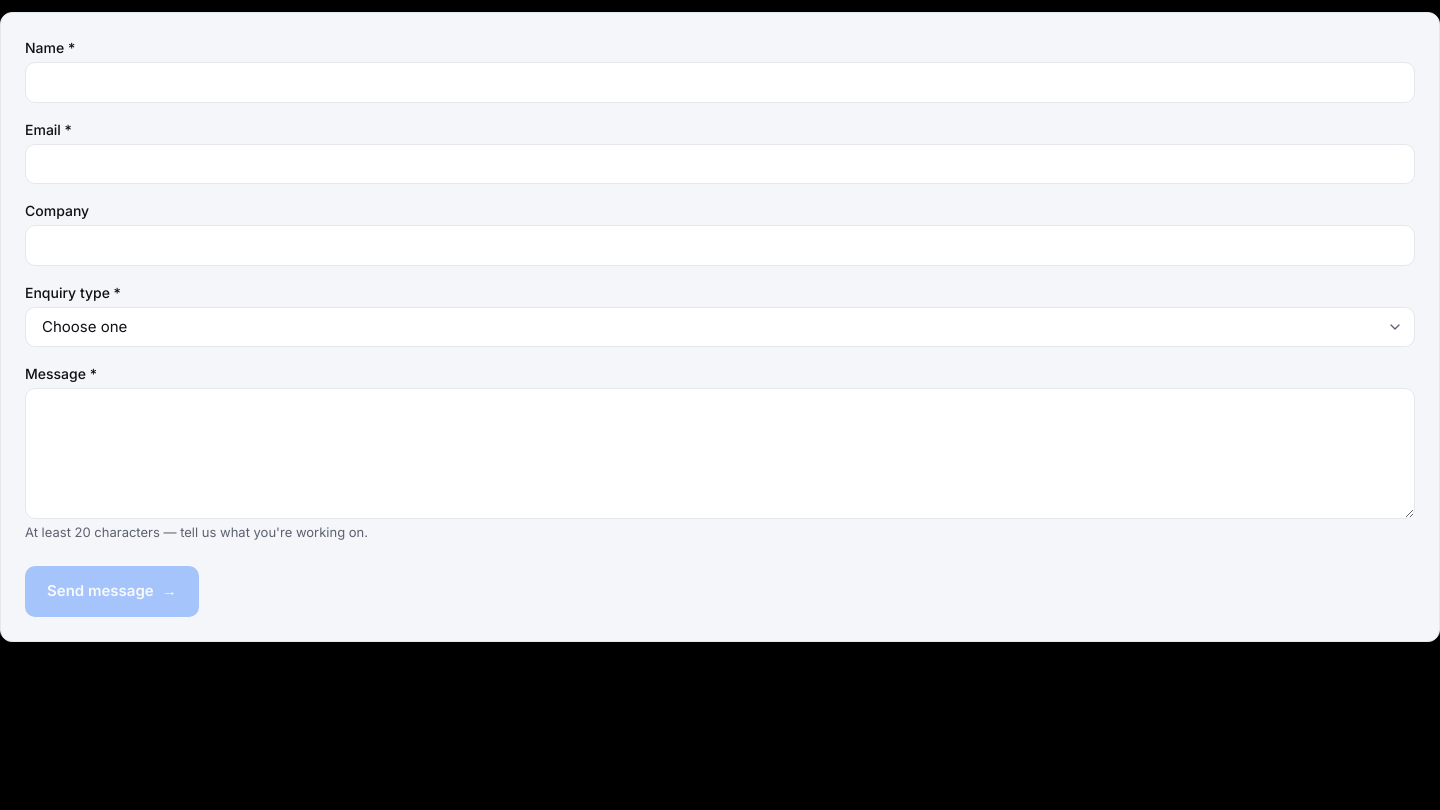
Test case: ContactForm › shows error message if submit rejects
The image size is (1440, 810).
In the field labelled "Name *": (720,82) [25,62,1415,102], type "Jane Doe"
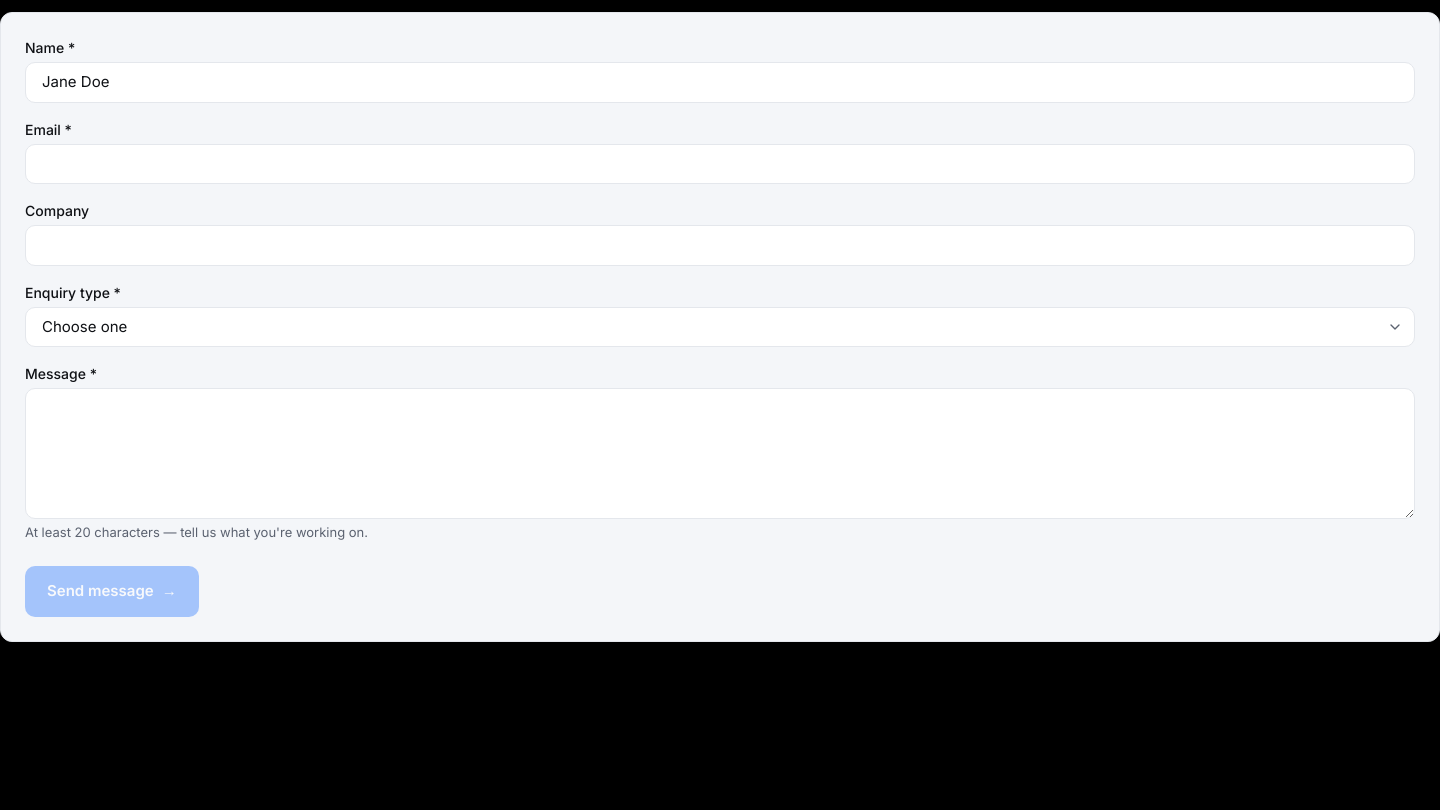
In the field labelled "Email *": (720,164) [25,144,1415,184], type "jane@example.com"
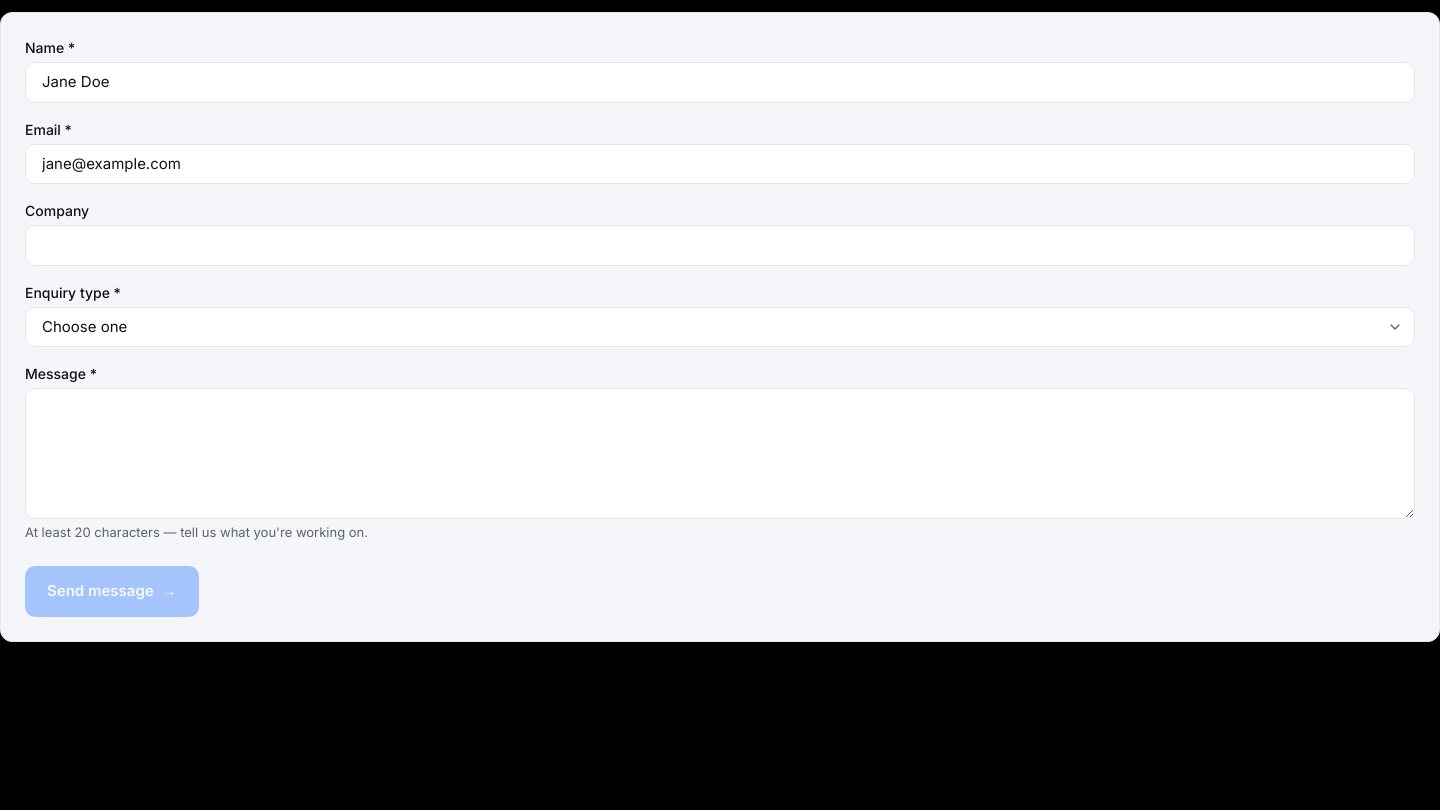
Select "Workshop inquiry" in the dropdown labelled "Enquiry type *": (720,327) [25,306,1415,347]
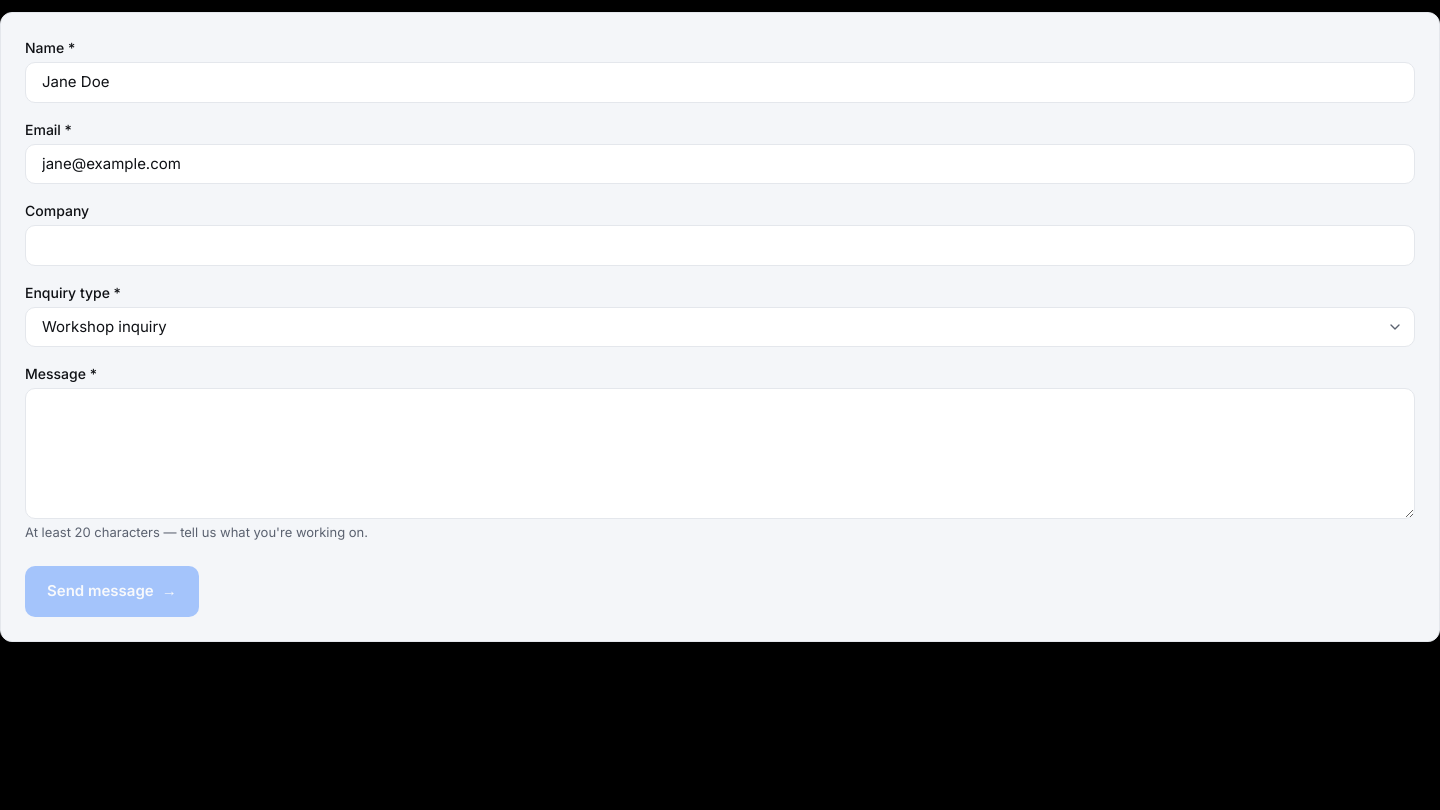
In the text box labelled "Message *": (720,453) [25,388,1415,518], type "This is at least twenty characters of message content."
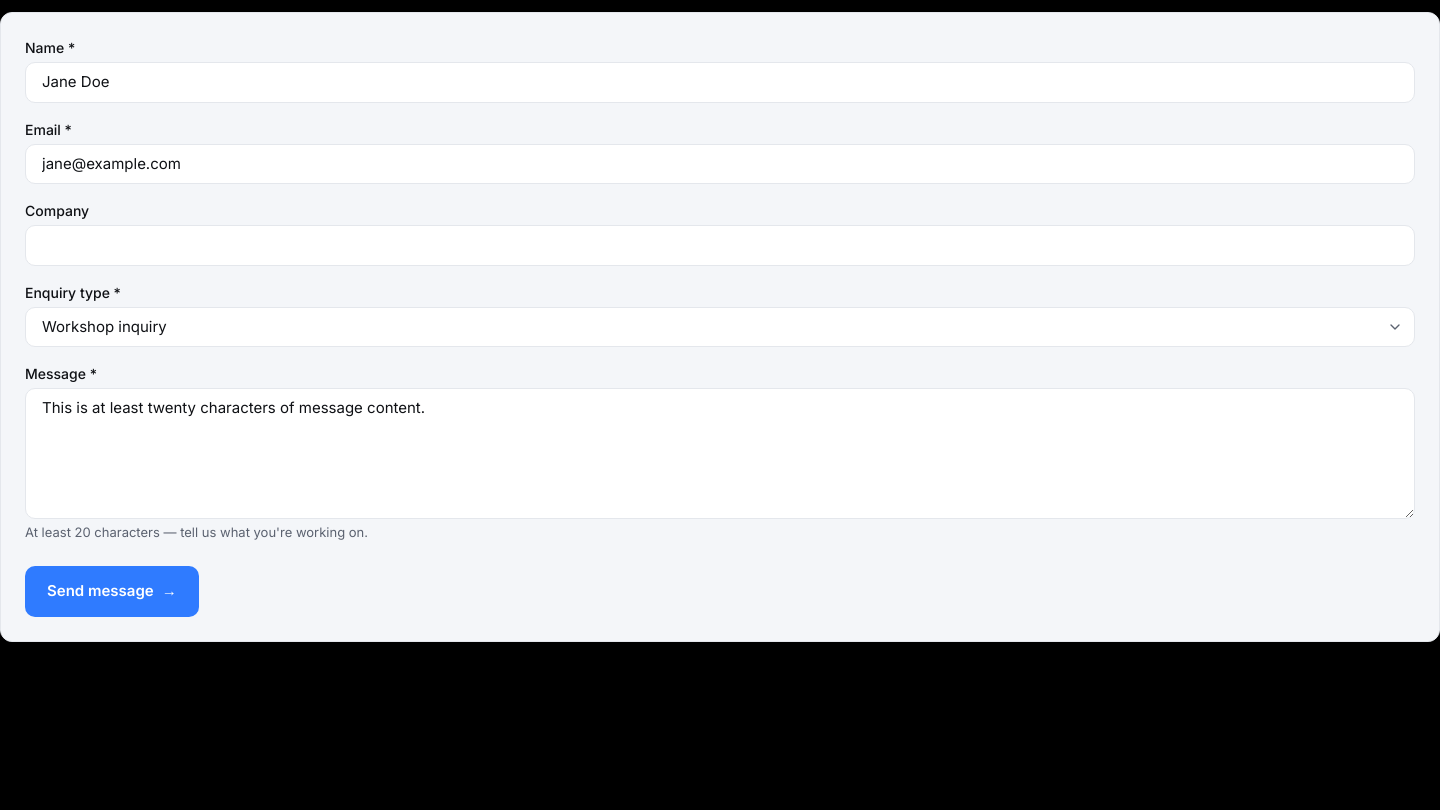
Click the button "Send message →": (112,591) [25,566,199,616]
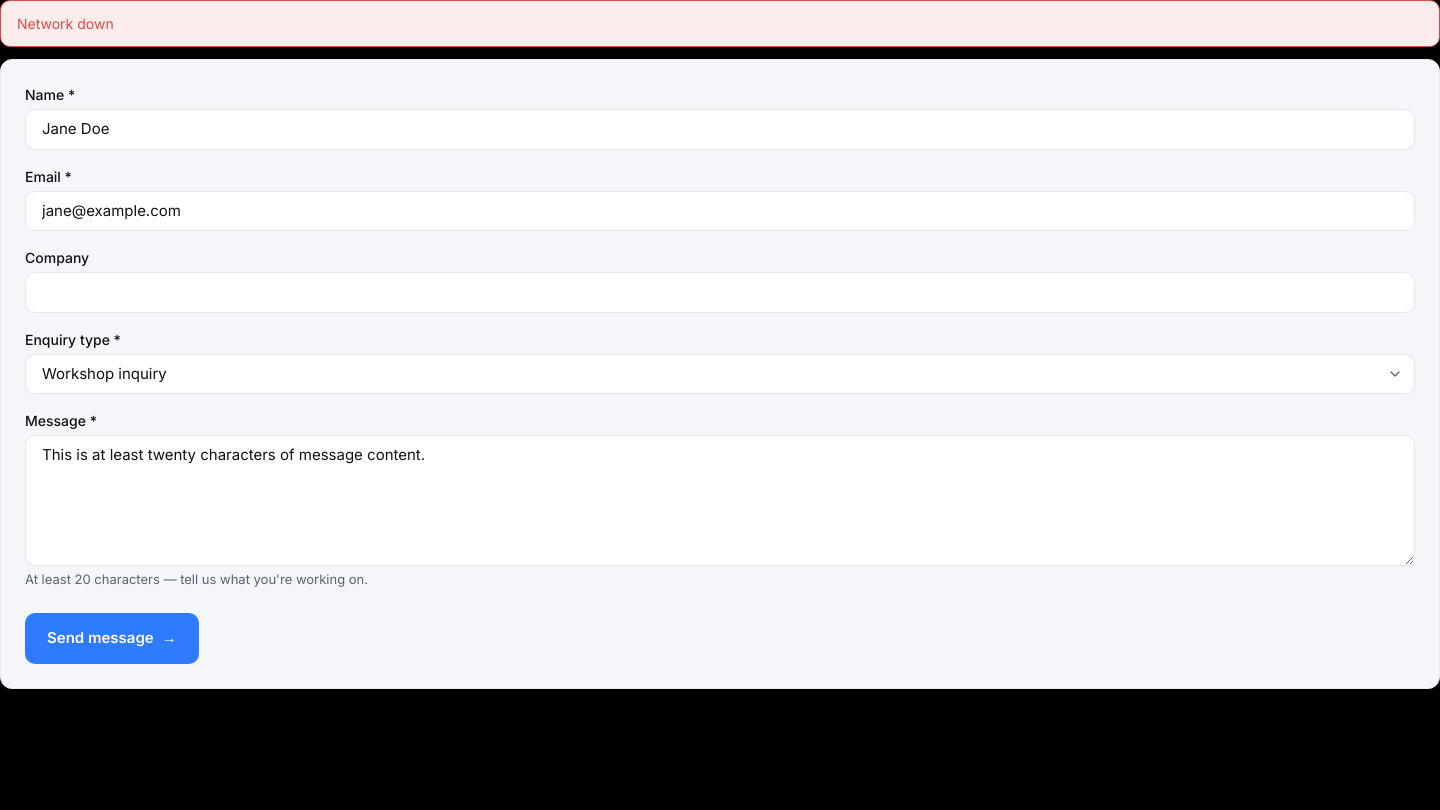
Expected: the message "Network down" is shown, [0,0,1439,47]
